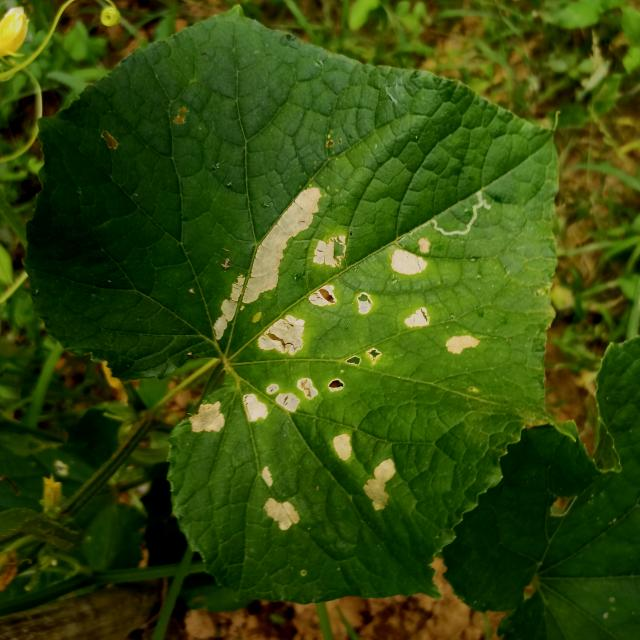disease_cucumber: (188, 185, 384, 432), (389, 238, 482, 358), (332, 434, 397, 511), (261, 464, 304, 535)
